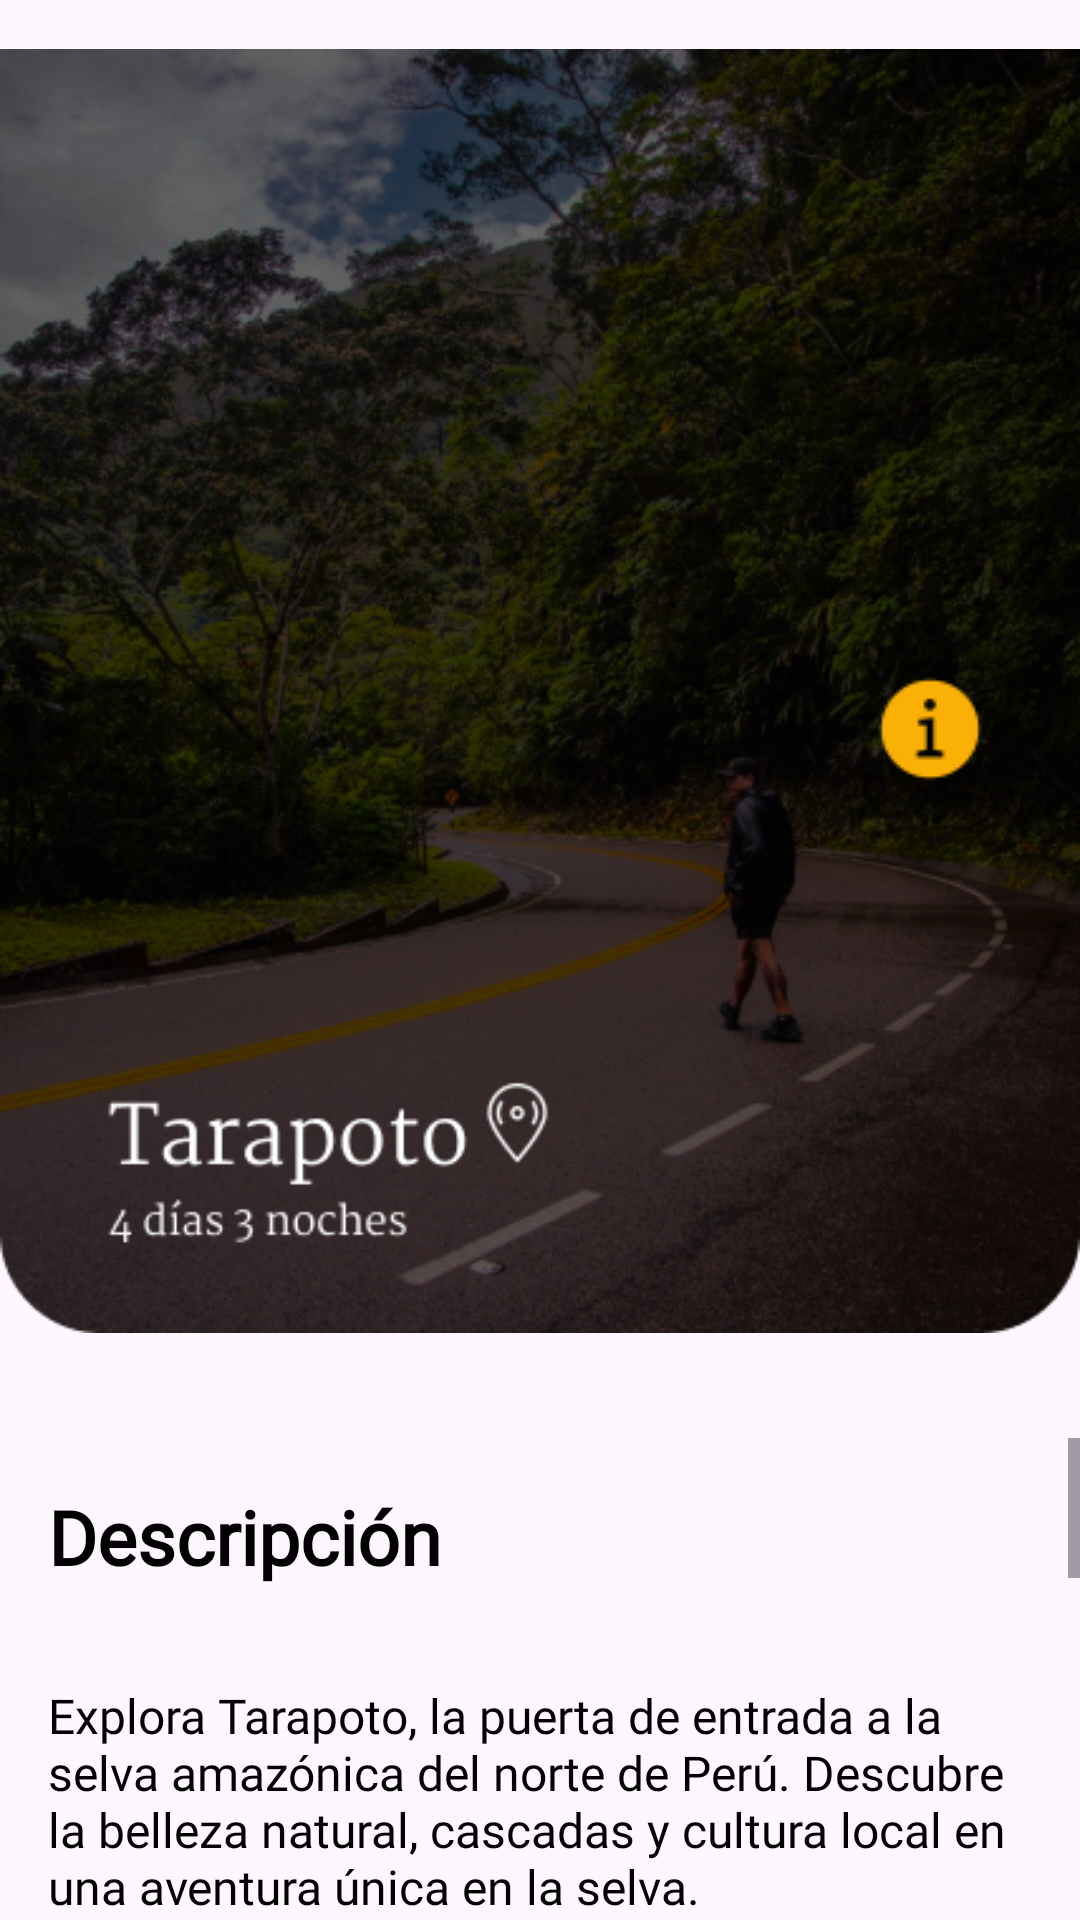

Icon bounding boxes for this 1080px×1920px phone screenshot, format [x1,y1,x2,y2]:
info: [834,639,991,819]
